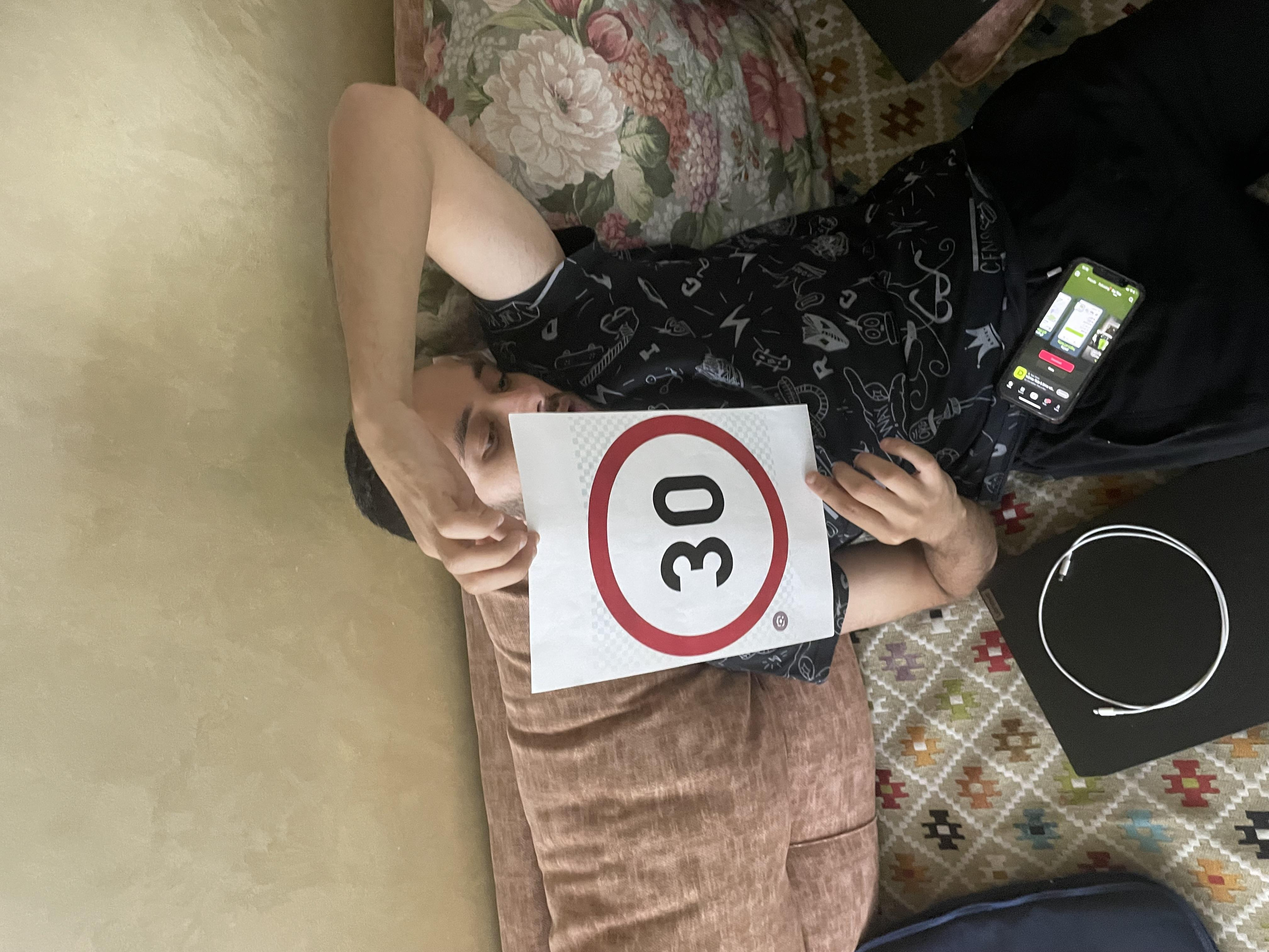30-speed: (385, 440, 731, 589)
